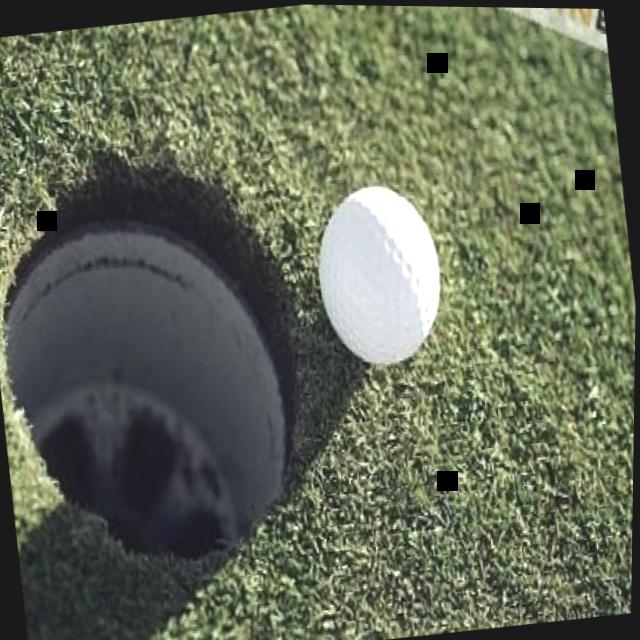golf ball: (298, 164, 459, 393)
